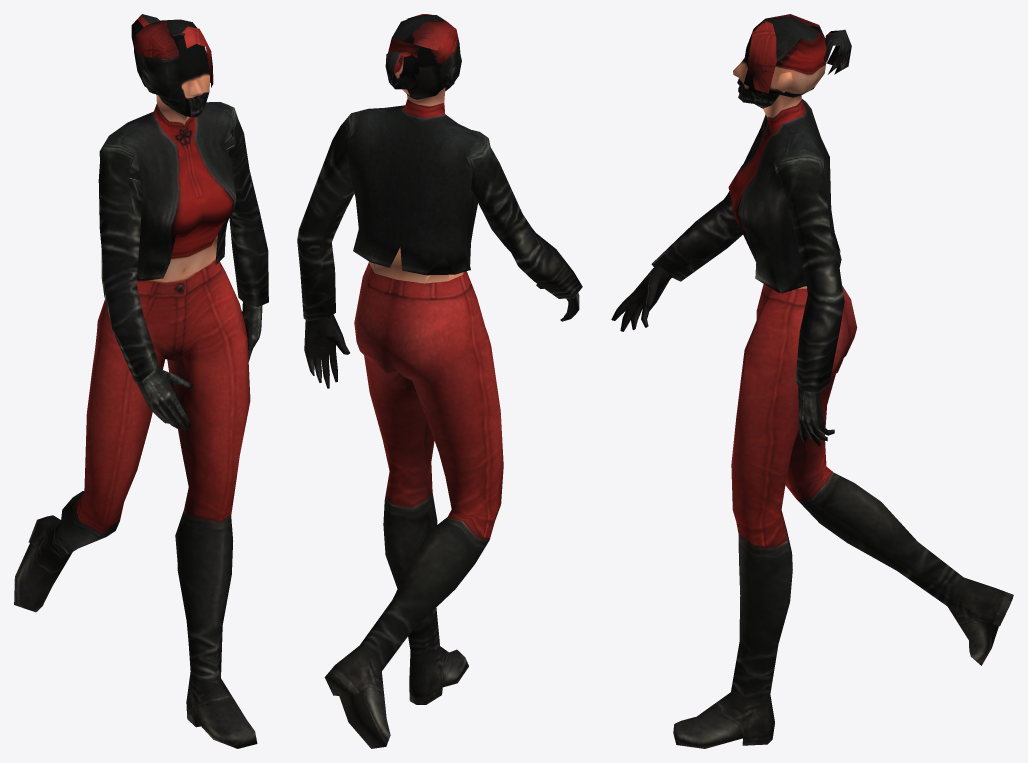
The picture shows the model from 3 angles, left to right: view 1: azimuth 30°, elevation 25°; view 2: azimuth 150°, elevation 25°; view 3: azimuth 270°, elevation 25°; orthographic projection. The views are drawn at different scales.
Parts seen in each view (by area): view 1: SketchUp (×5); view 2: SketchUp (×4); view 3: SketchUp (×5).
Boxes of the visible parts, x1,y1,x2,y2 form: SketchUp (×5): (14,19,268,748); SketchUp (×4): (297,15,582,748); SketchUp (×5): (611,14,1013,748).
Size of the model in its own units: 67.43 by 110 by 216.
Materials: 2 (2 with a texture image).
